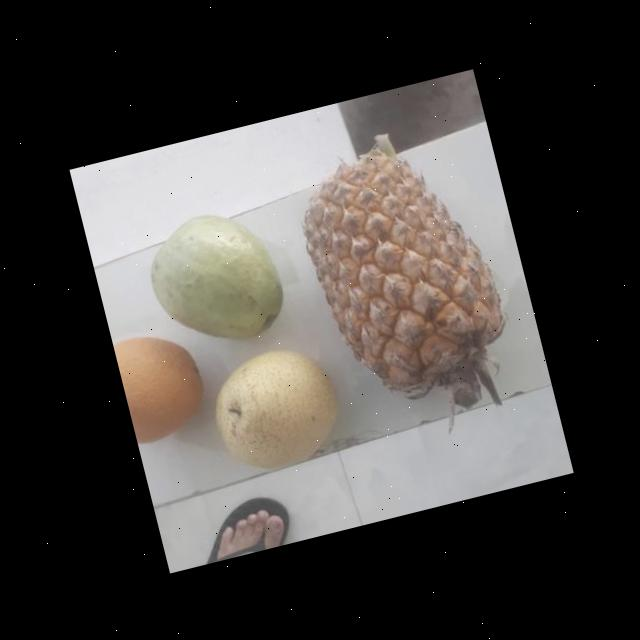guava: (142, 204, 297, 357)
pear: (199, 338, 353, 482), (111, 321, 216, 446)
pineapple: (296, 132, 518, 406)
